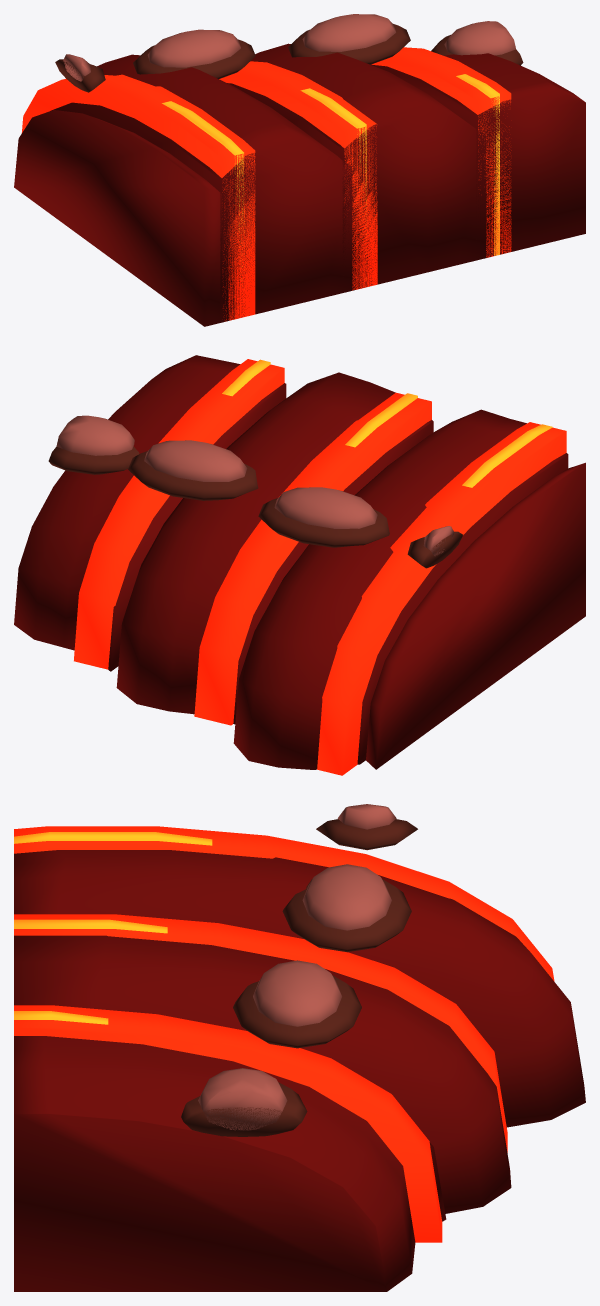
File: newshe-81.glb
3 renders of one model, top to bottom at view 1: azimuth 30°, elevation 25°; view 2: azimuth 150°, elevation 25°; view 3: azimuth 270°, elevation 25°, orthographic. The views are drawn at different scales.
Visible parts, largest first — view 1: newshe-81; view 2: newshe-81; view 3: newshe-81.
Boxes of the visible parts, x1,y1,x2,y2 form: newshe-81: (14,14,585,326); newshe-81: (14,355,585,775); newshe-81: (14,804,585,1291).
Size of the model in its own units: 2 by 0.8715 by 1.92.
